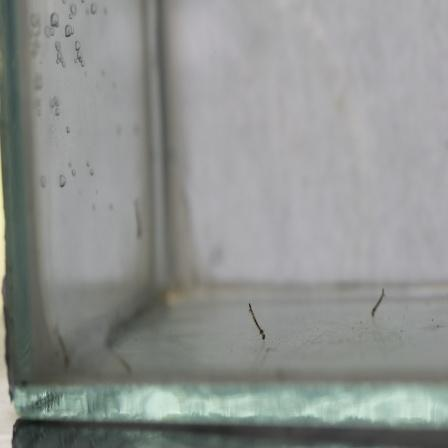Jentik-Nyamuk: (243, 300, 269, 344)
